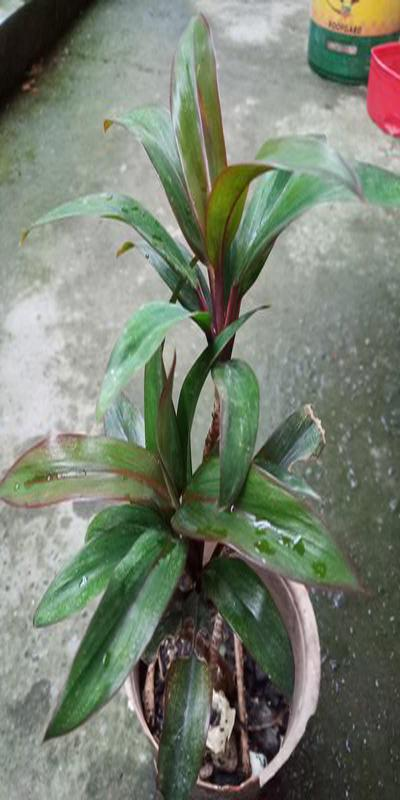Baston de san jose: (38, 56, 343, 775)
